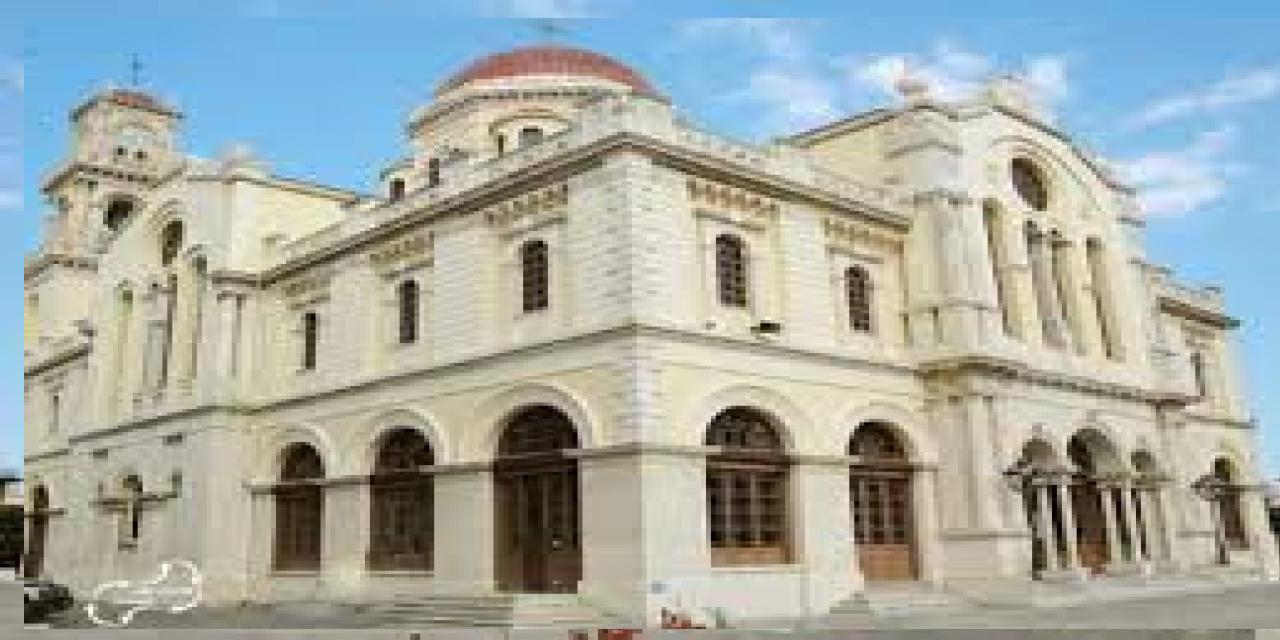Agios Minas: (25, 19, 1280, 630)
